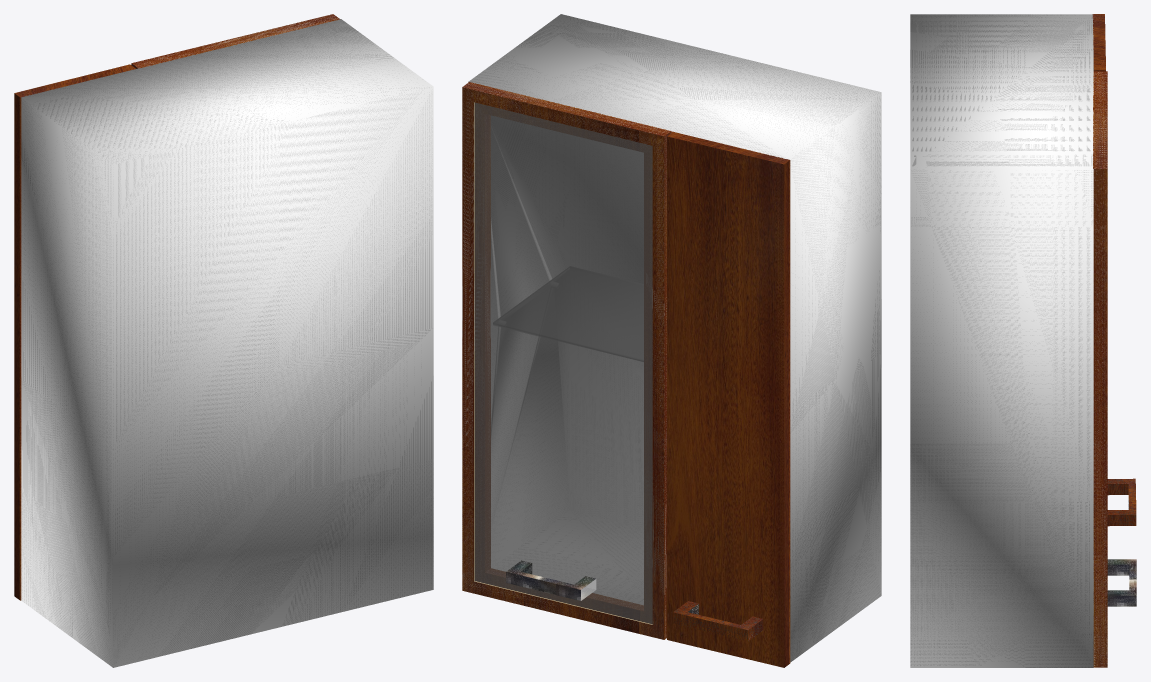
3 views of the same model, side by side, from view 1: azimuth 30°, elevation 25°; view 2: azimuth 150°, elevation 25°; view 3: azimuth 270°, elevation 25° (orthographic).
Visible parts, largest first — view 1: mesh4_mesh4-geometry, mesh3_mesh3-geometry, mesh1_mesh1-geometry; view 2: mesh4_mesh4-geometry, mesh1_mesh1-geometry, mesh3_mesh3-geometry, mesh2_mesh2-geometry; view 3: mesh4_mesh4-geometry, mesh1_mesh1-geometry, mesh3_mesh3-geometry, mesh2_mesh2-geometry.
Part boxes in pixels (x1,y1,x2,y2): mesh4_mesh4-geometry: (21,19,433,667); mesh3_mesh3-geometry: (14,64,135,600); mesh1_mesh1-geometry: (131,14,339,68); mesh4_mesh4-geometry: (468,14,881,662); mesh1_mesh1-geometry: (462,82,671,639); mesh3_mesh3-geometry: (667,132,790,667); mesh2_mesh2-geometry: (506,560,596,600); mesh4_mesh4-geometry: (910,14,1093,667); mesh1_mesh1-geometry: (1093,71,1107,667); mesh3_mesh3-geometry: (1092,14,1136,526); mesh2_mesh2-geometry: (1107,559,1136,606).
Size of the model in its own units: 0.5257 by 0.7866 by 0.3239.
